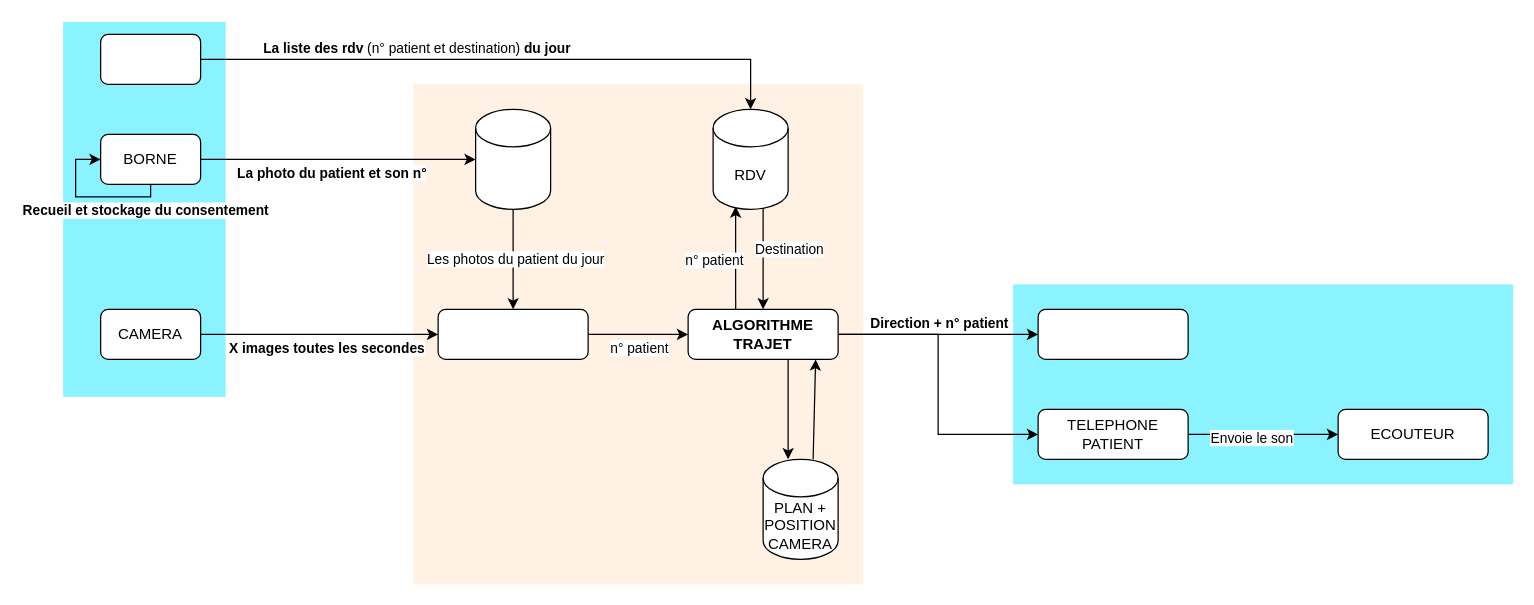
This 1534x605 diagram has some shape labels left out. Each missing label, with the box of its shape:
FACE DATA: (474, 108, 551, 209)
HOPITAL: (99, 33, 201, 84)
PROJECTEUR / ECRAN: (1037, 308, 1188, 359)
RECONNAISSANCE FACIALE: (437, 308, 588, 359)
